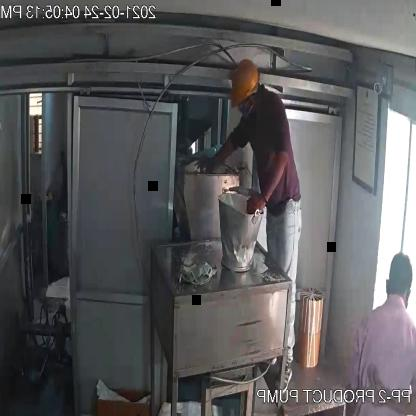helmet: (226, 52, 262, 118)
